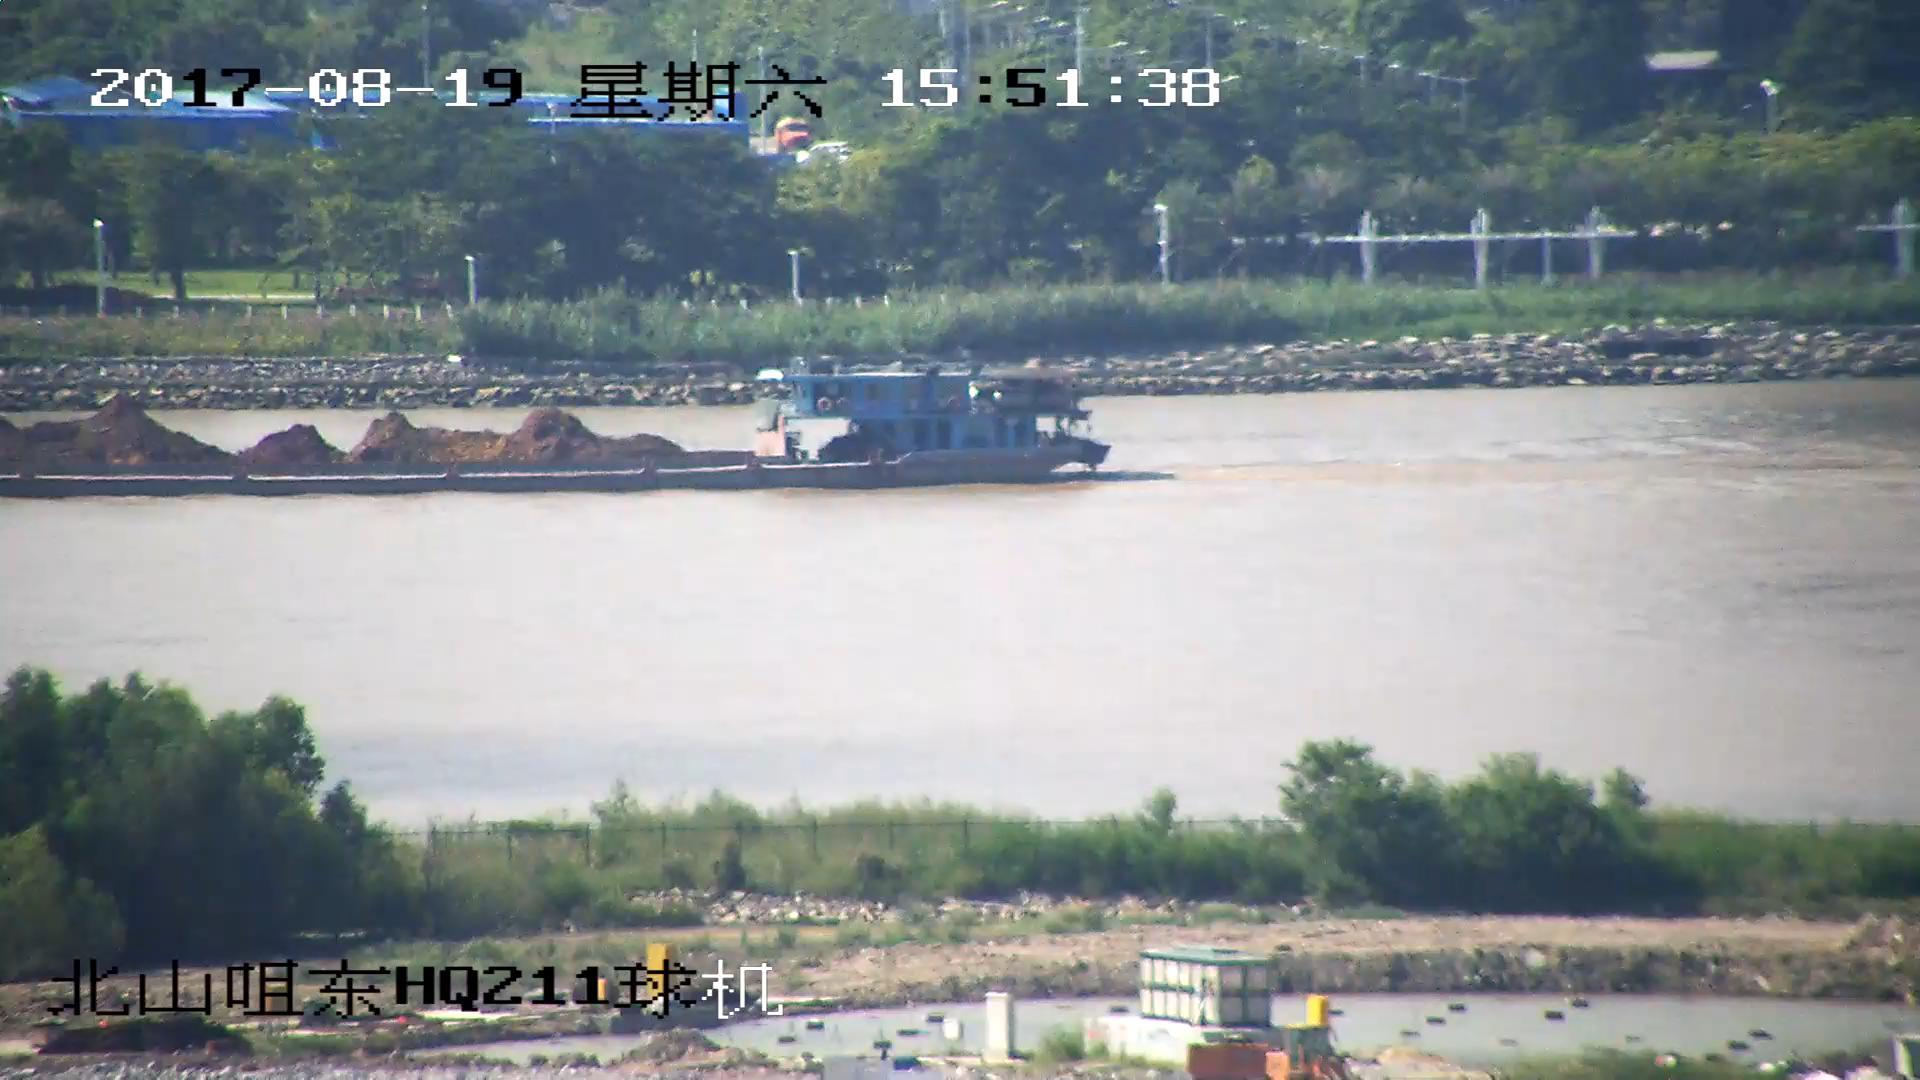Ship: (3, 349, 1113, 498)
